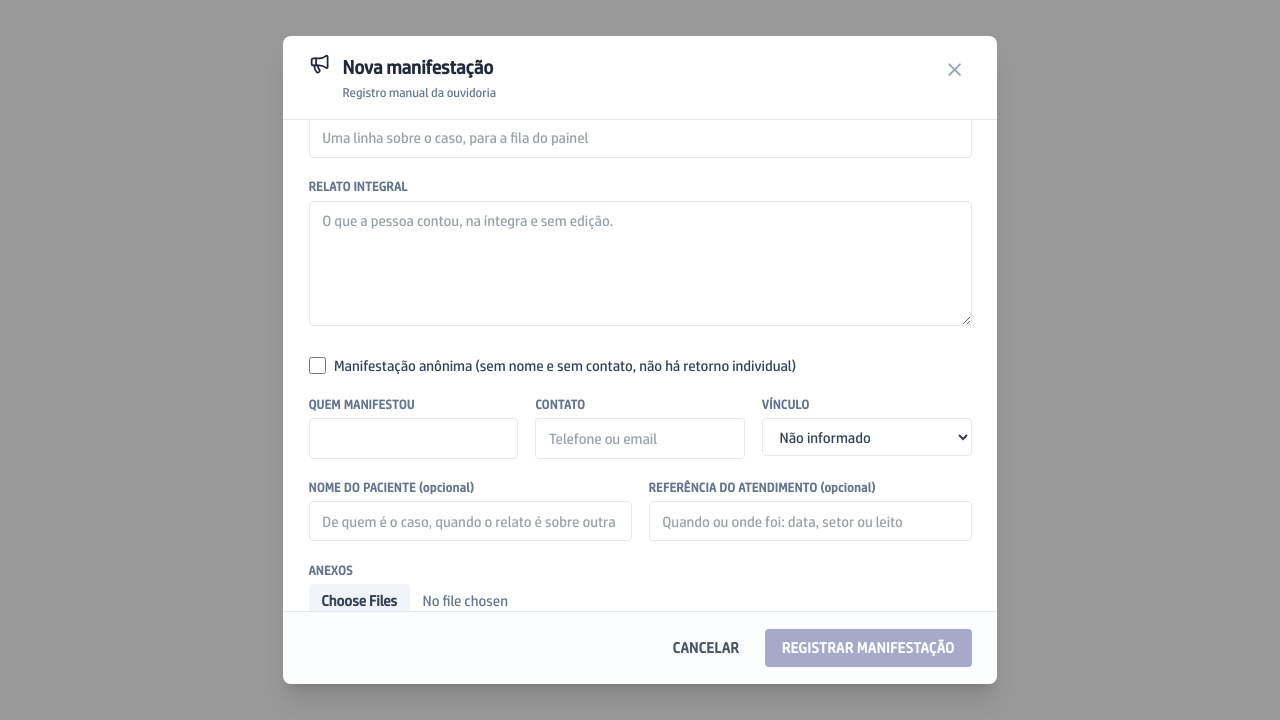
Test: paciente do caso no registro manual (issue #663) › avisa que o paciente pode indicar quem manifestou, e só no anônimo
(page scrolled)
expect the field labelled "Nome do paciente (opcional)" is shown: met, box x1=308 y1=501 x2=632 y2=541
expect the text "O nome do paciente e a referência do atendimento podem indicar quem manifestou." is not shown: met
Click the checkbox labelled "Manifestação anônima" at (317, 365), box x1=308 y1=357 x2=326 y2=374
(page scrolled)
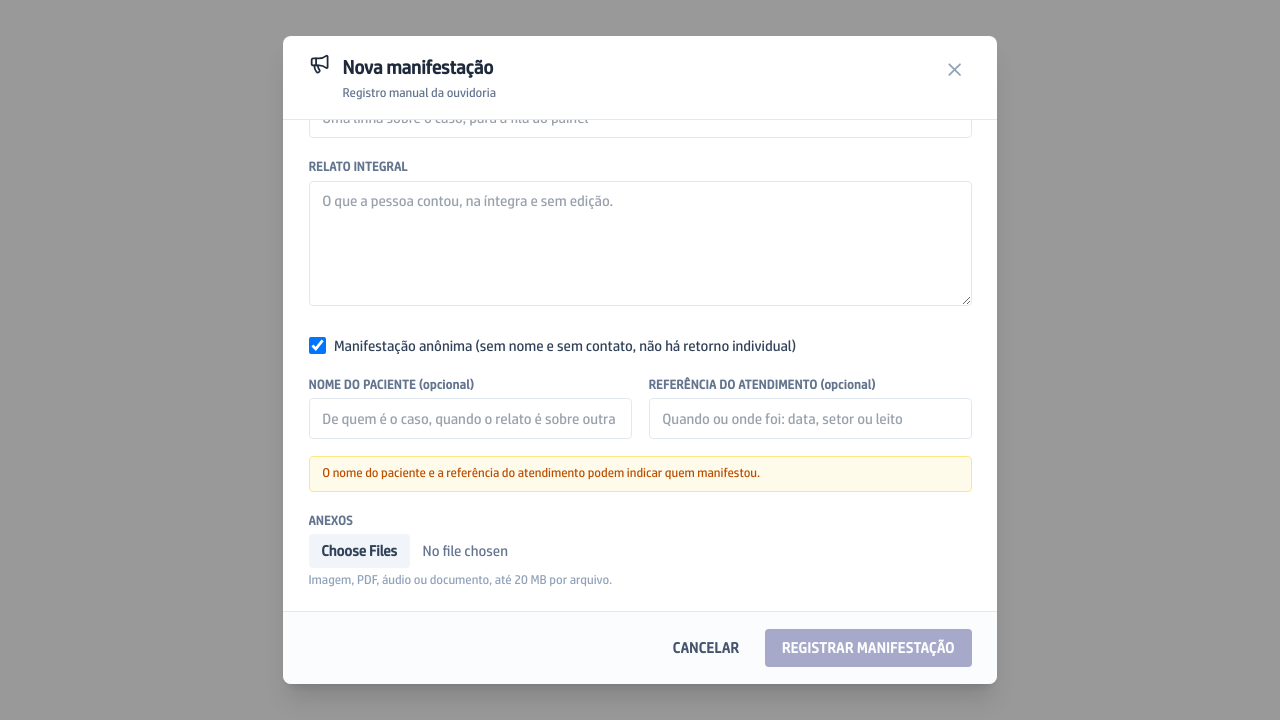
expect the text "O nome do paciente e a referência do atendimento podem indicar quem manifestou." is shown: met, box x1=308 y1=456 x2=972 y2=492
